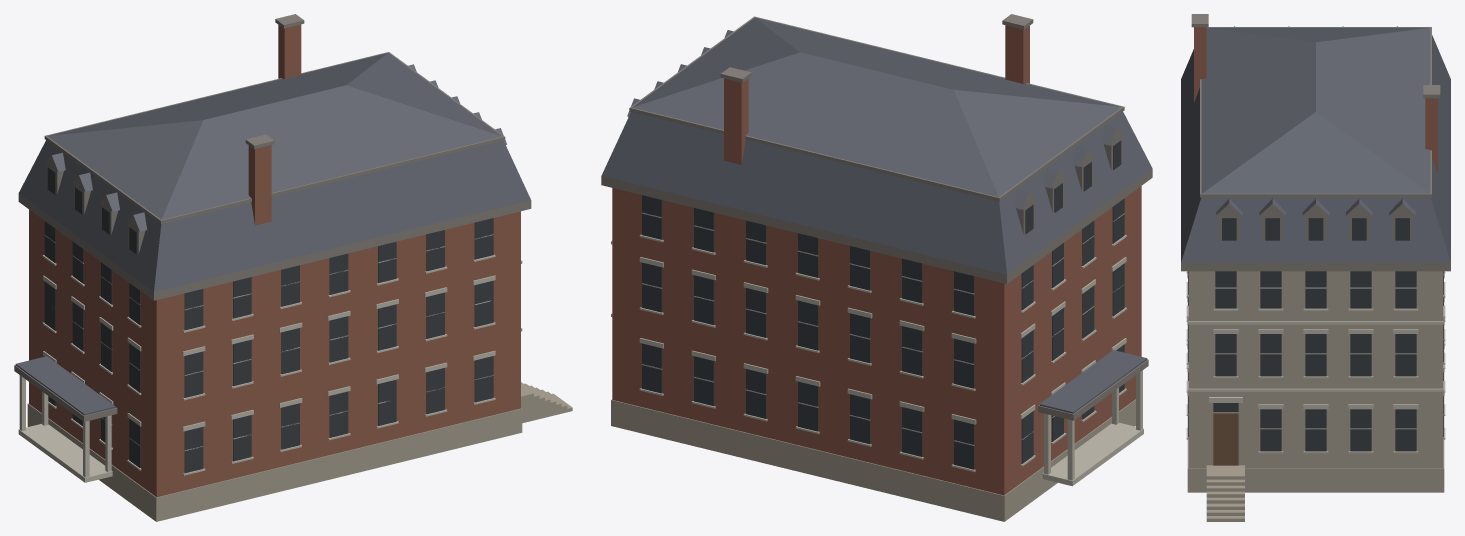
Rendered from elbridge_keith_house_1900_prairie__draft_1904.glb.
3 views of the same model, side by side, from view 1: azimuth 30°, elevation 25°; view 2: azimuth 150°, elevation 25°; view 3: azimuth 270°, elevation 25° (orthographic). The views are drawn at different scales.
Parts seen in each view (by area): view 1: elbridge_keith_house_1900_prairie__draft_1904; view 2: elbridge_keith_house_1900_prairie__draft_1904; view 3: elbridge_keith_house_1900_prairie__draft_1904.
Part boxes in pixels (x1=…): elbridge_keith_house_1900_prairie__draft_1904: x1=14, y1=14, x2=572, y2=521; elbridge_keith_house_1900_prairie__draft_1904: x1=601, y1=14, x2=1152, y2=521; elbridge_keith_house_1900_prairie__draft_1904: x1=1181, y1=14, x2=1450, y2=521.
Bounding box in the file's own units: 25.2 × 18.15 × 12.7.
